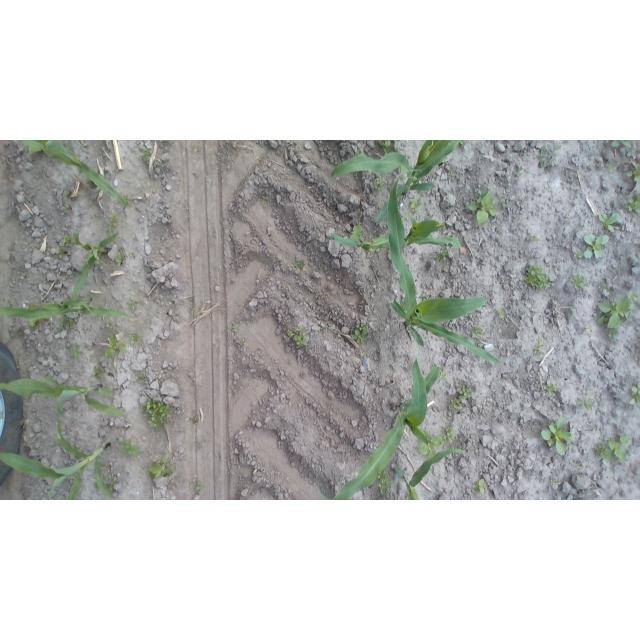Maize: (387, 169, 504, 367), (317, 357, 442, 500), (328, 140, 462, 226), (0, 420, 112, 499), (21, 140, 128, 206), (1, 376, 132, 421), (330, 213, 463, 252), (396, 448, 467, 500), (71, 230, 120, 300), (1, 299, 132, 318)
Weeds: (597, 297, 630, 338), (541, 417, 575, 456), (467, 191, 498, 226), (141, 398, 172, 430), (594, 435, 629, 463), (522, 264, 551, 291), (418, 430, 443, 460), (584, 233, 609, 259), (149, 453, 174, 477), (105, 333, 127, 359), (598, 212, 620, 232), (287, 327, 307, 346), (117, 439, 139, 456), (377, 469, 391, 495), (435, 244, 453, 264), (353, 324, 370, 345), (571, 274, 590, 289), (533, 337, 547, 357), (625, 195, 640, 213), (349, 224, 364, 242), (538, 146, 550, 168), (105, 215, 119, 232), (441, 426, 455, 443), (377, 140, 394, 154), (115, 247, 126, 268), (630, 382, 640, 405), (578, 397, 594, 411), (59, 316, 75, 330), (409, 198, 423, 214), (627, 164, 640, 181), (70, 342, 82, 360), (129, 330, 144, 344), (449, 398, 463, 411), (92, 365, 105, 379), (544, 383, 557, 396), (374, 178, 387, 191), (473, 479, 485, 493), (460, 385, 472, 399), (61, 234, 75, 246), (611, 140, 631, 148), (55, 246, 67, 259), (107, 479, 119, 492), (471, 326, 483, 338), (627, 293, 638, 306), (231, 320, 242, 332), (141, 148, 152, 160), (62, 202, 73, 214), (515, 165, 524, 179), (128, 299, 139, 310), (64, 140, 74, 152), (608, 162, 620, 171), (29, 319, 39, 329), (196, 482, 205, 493), (294, 260, 305, 269), (135, 373, 145, 382), (574, 250, 585, 258), (64, 189, 73, 198), (438, 371, 446, 381), (123, 194, 131, 204), (499, 198, 507, 206), (531, 234, 539, 242), (106, 320, 114, 328), (555, 144, 562, 153), (498, 309, 505, 318), (99, 462, 106, 471), (448, 171, 455, 179), (86, 294, 95, 300), (551, 479, 558, 486), (129, 251, 136, 257), (6, 301, 12, 308), (458, 141, 466, 146), (577, 463, 583, 469), (321, 325, 327, 331), (29, 301, 35, 307), (262, 196, 269, 200), (500, 281, 506, 285), (20, 419, 24, 425), (82, 343, 87, 347), (378, 350, 381, 353)
